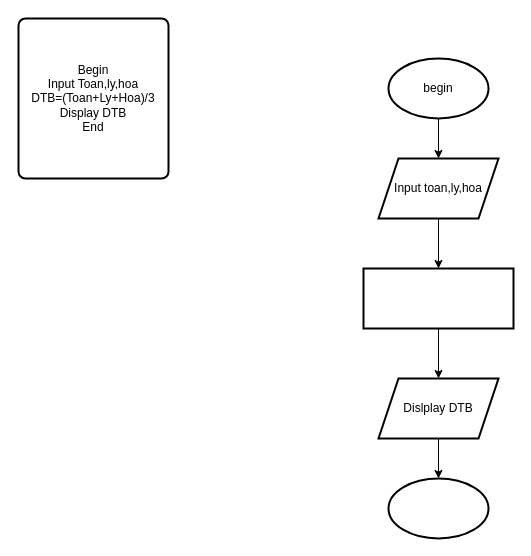
Some shapes in this 531 by 556 pixel diagram are drawn without their labels. The shapes that lost their labels are listed below. From the top down, each one's centre as x and y in pixels, then its label:
At point 438,298: "DTB=(toan+ly+hoa)/3".
At point 438,508: "End".
